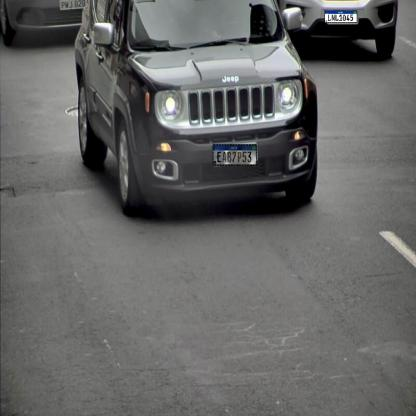PlacaM: (213, 144, 257, 166), (324, 10, 358, 23)
